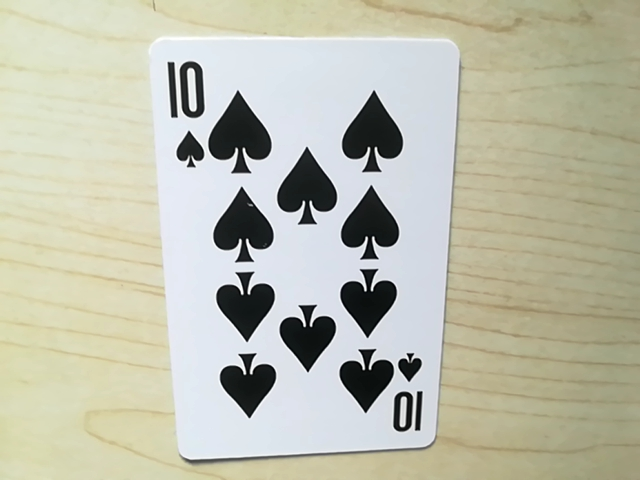ht 10: (157, 53, 219, 170), (376, 362, 427, 436)
